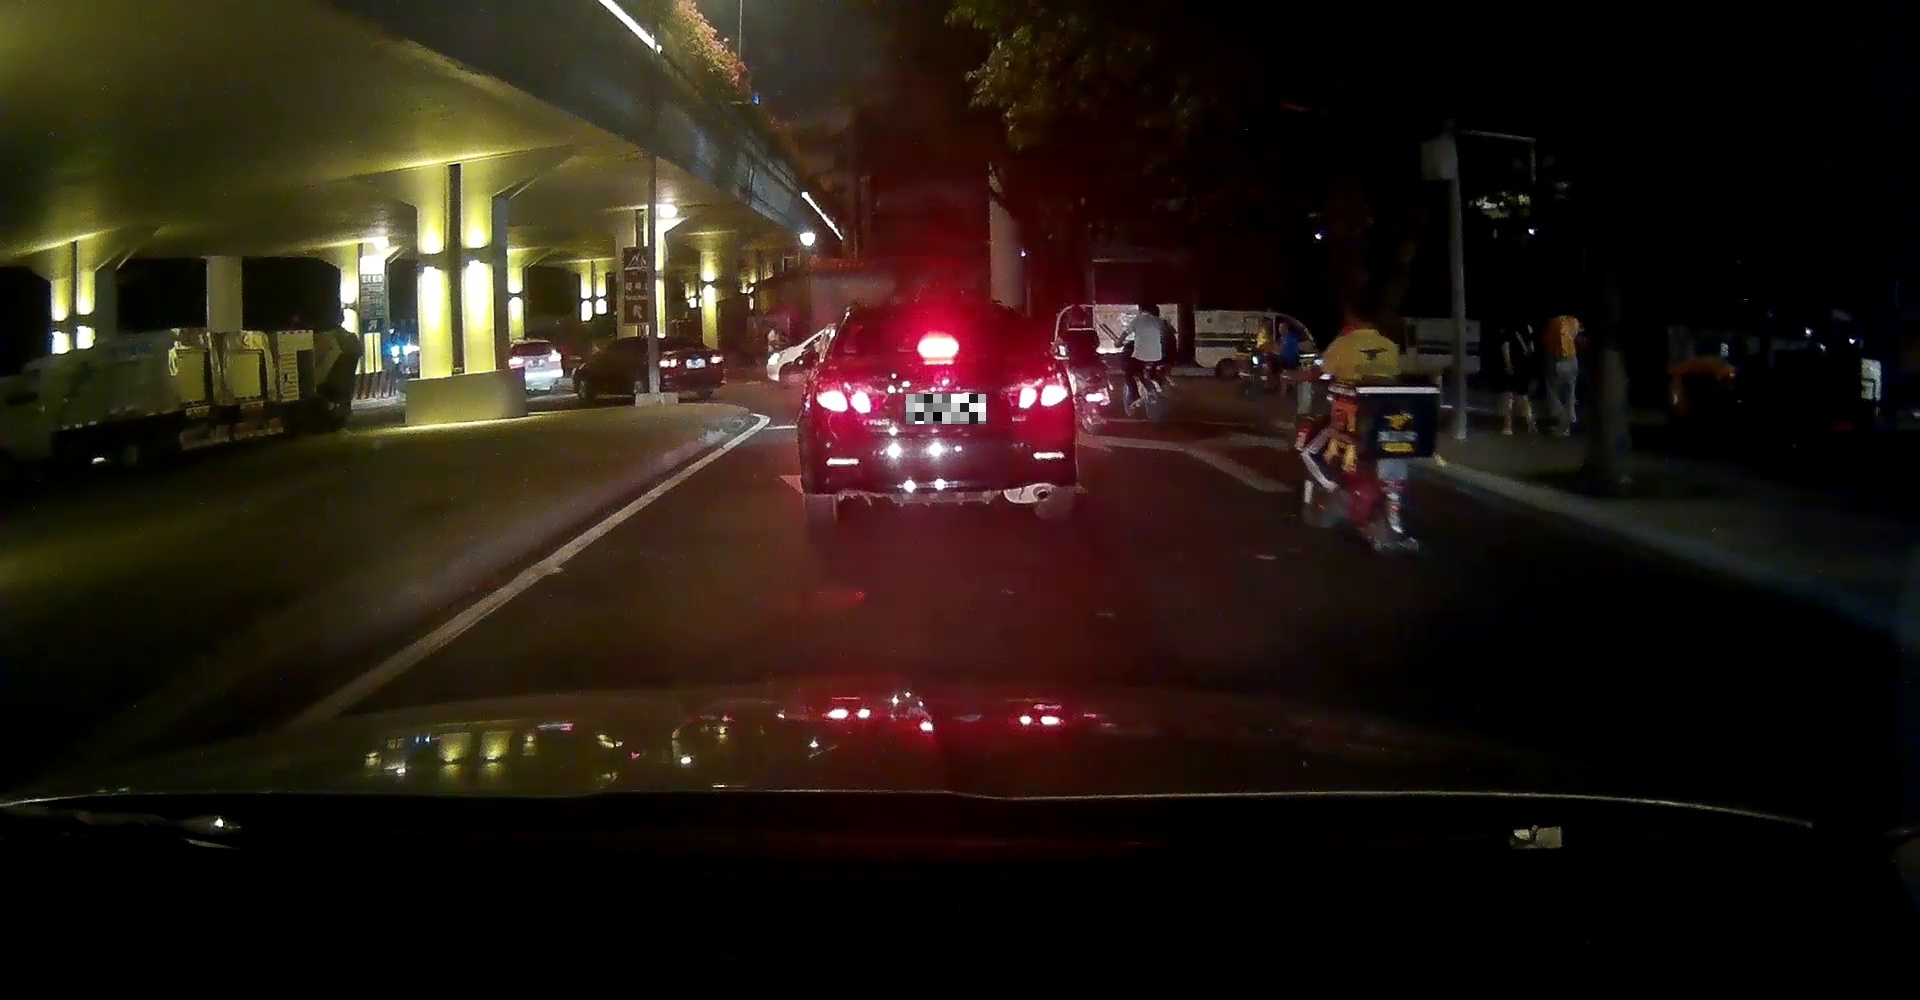L_light: (815, 385, 884, 418), (658, 358, 681, 369)
R_light: (1006, 372, 1070, 410), (709, 353, 724, 364)
T_light: (917, 336, 960, 355), (670, 339, 684, 341)
night-brake: (799, 298, 1076, 528)
night-no: (649, 335, 725, 398)
plate_1: (905, 393, 985, 424)
